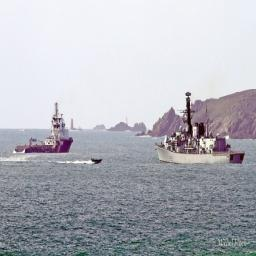Fragata: (156, 88, 248, 169)
